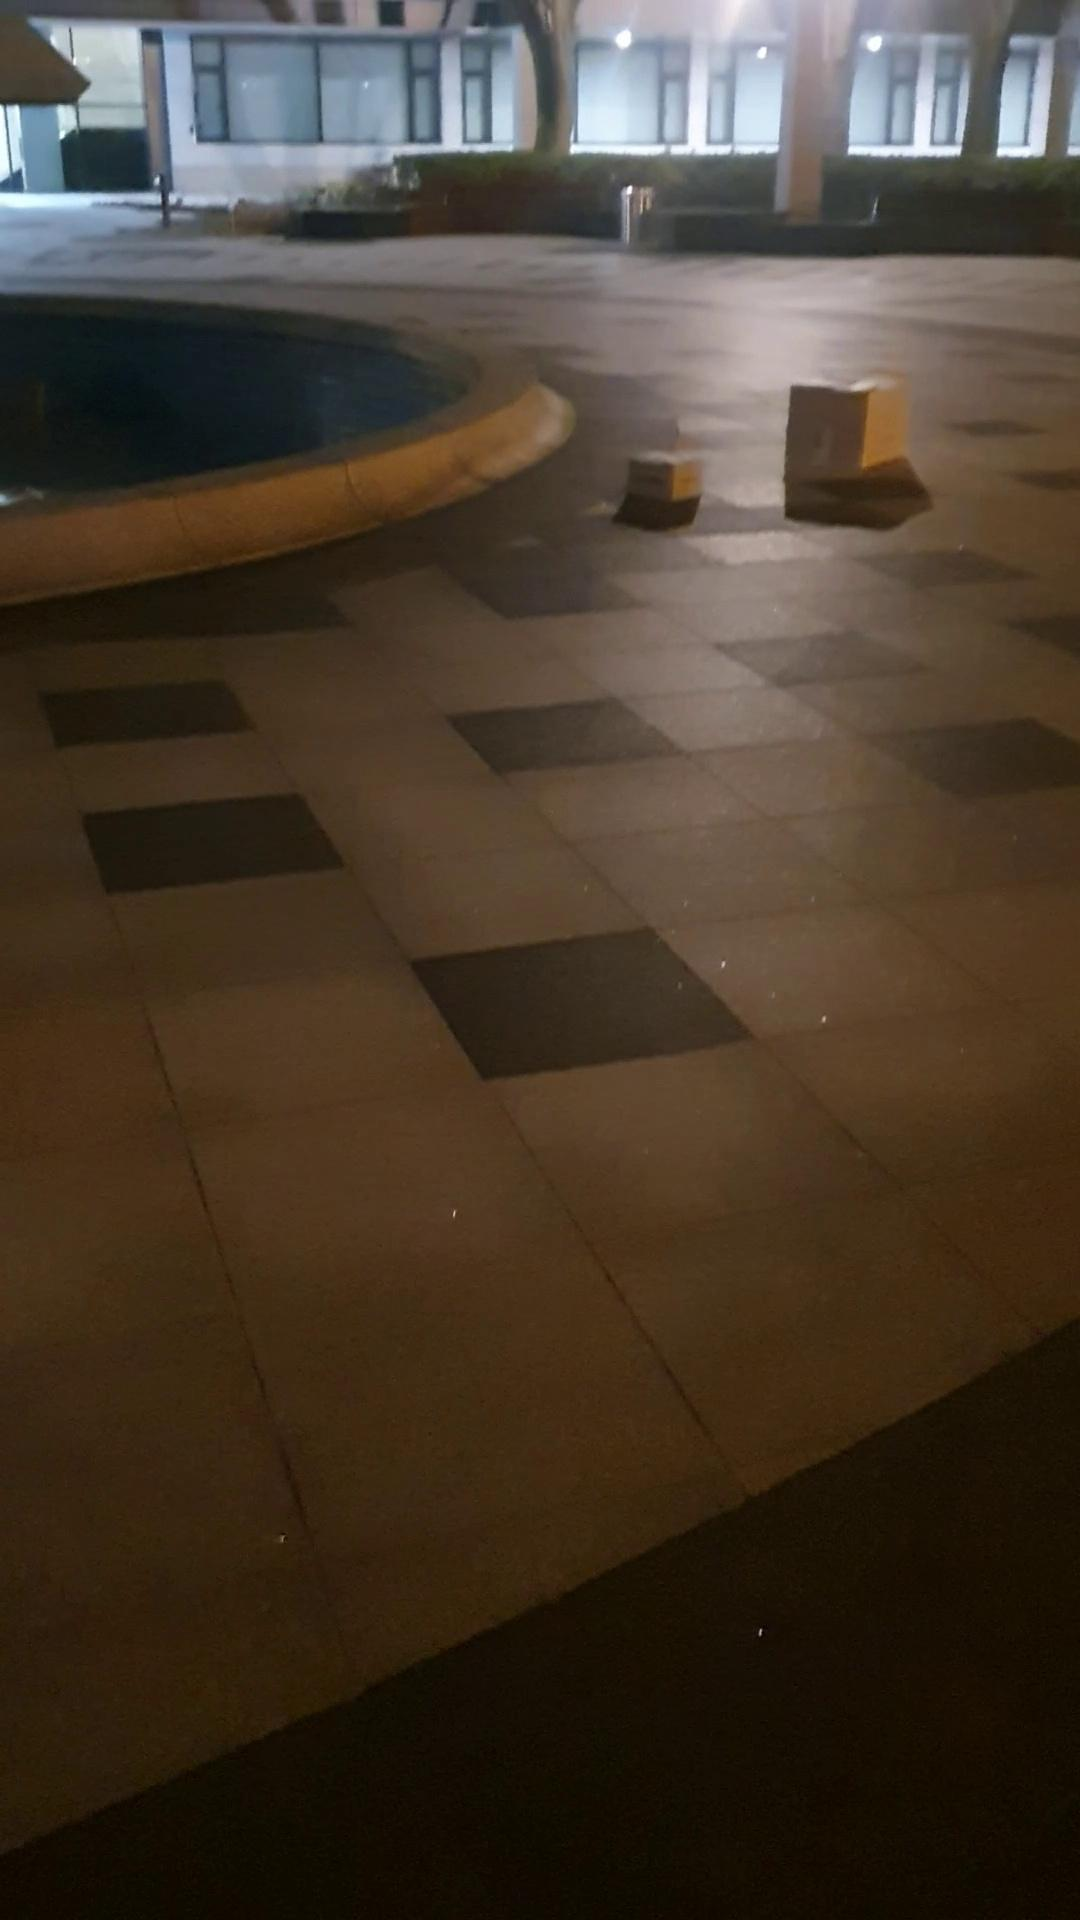Box: (781, 371, 920, 483), (633, 430, 713, 497)
